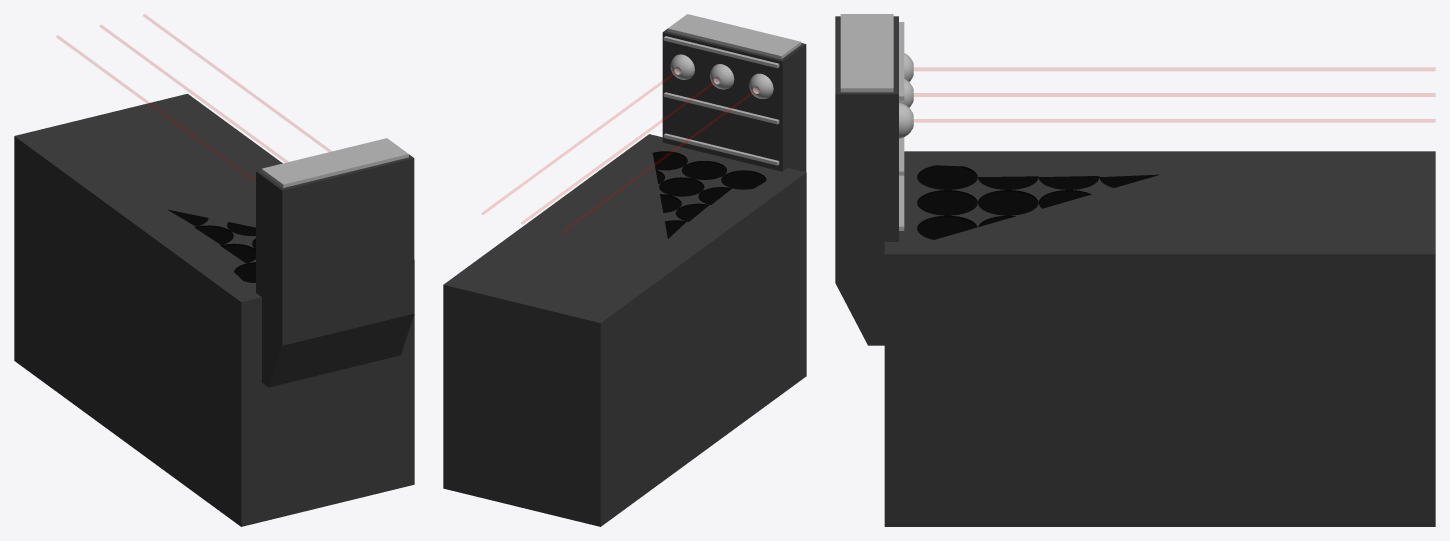
File: spiketrap.fbx
The picture shows the model from 3 angles, left to right: view 1: azimuth 30°, elevation 25°; view 2: azimuth 150°, elevation 25°; view 3: azimuth 270°, elevation 25°; orthographic projection. The views are drawn at different scales.
Parts seen in each view (by area): view 1: spiketrap; view 2: spiketrap; view 3: spiketrap.
Boxes of the visible parts, box(x1,y1,x2,y2) form: spiketrap: box(14, 14, 414, 526); spiketrap: box(443, 14, 806, 526); spiketrap: box(835, 14, 1435, 526).
Size of the model in its own units: 200 by 385 by 494.
